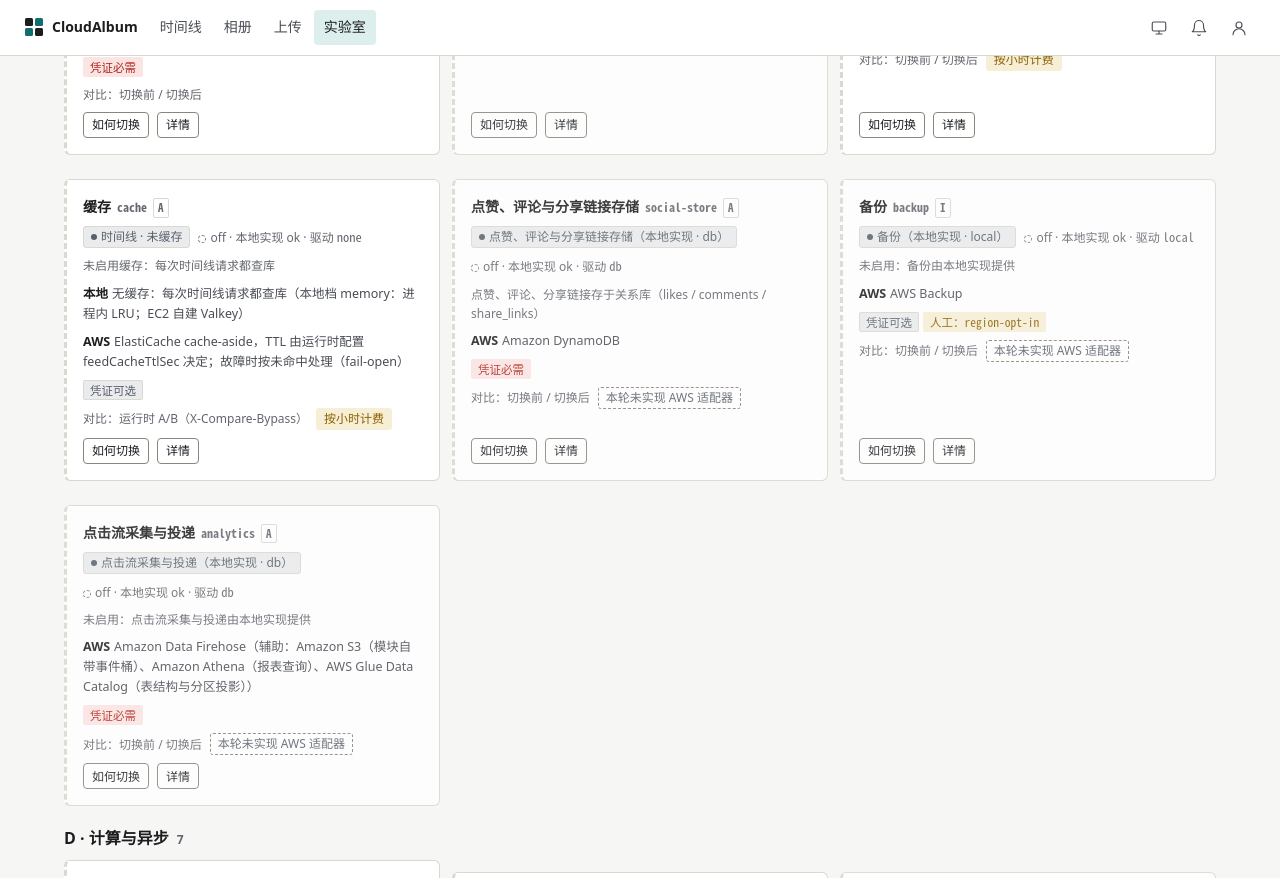
Test: /lab › “如何切换”给出 scripts/module 命令、硬依赖与计费提示
(page scrolled)
What coordinates should you click on to do the following:
click the button "如何切换" below "未启用缓存：每次时间线请求都查库"
I would click on:
 (116, 450)
Its box is [83, 438, 149, 464].
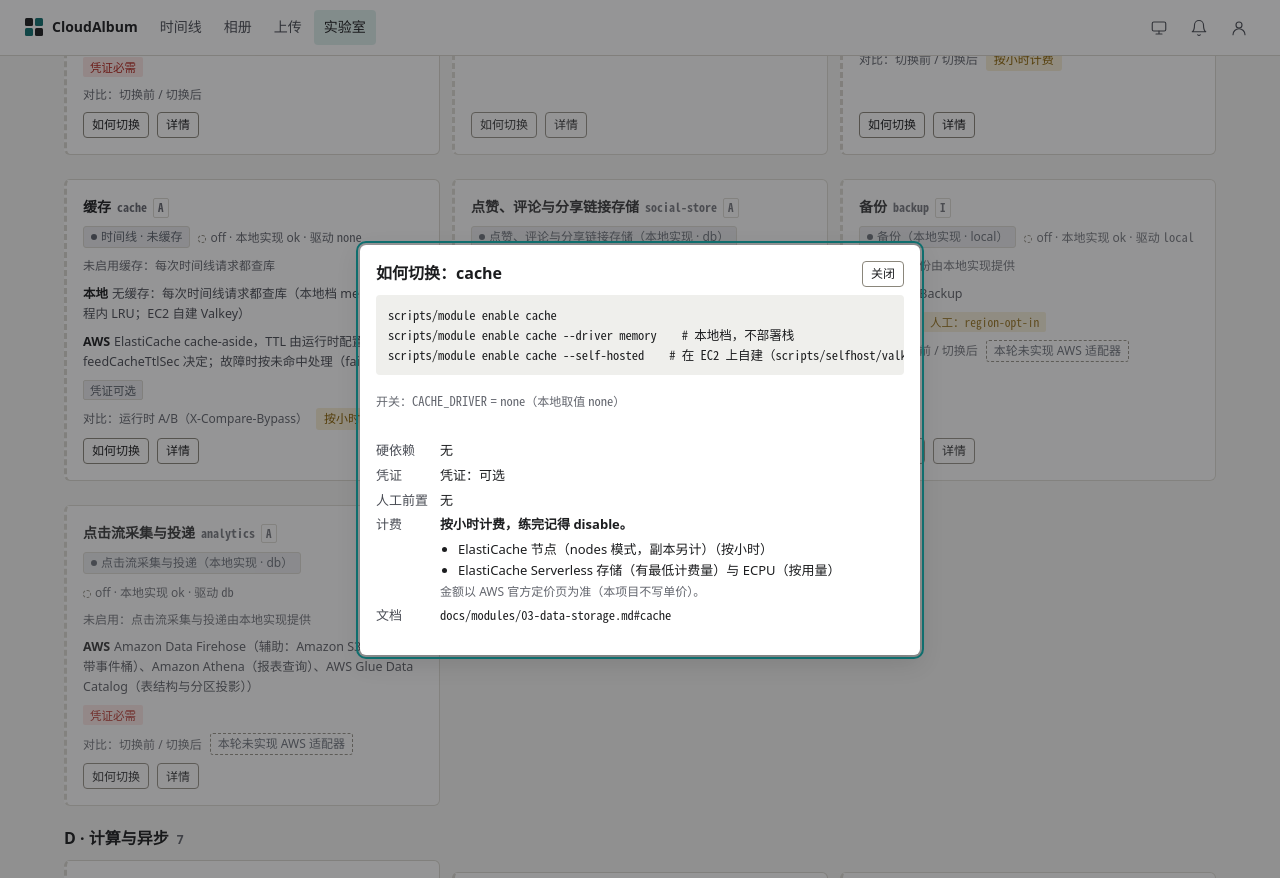
Check: the text "--driver memory" is shown, box [388, 305, 904, 364]
Check: the text "按小时计费，练完记得 disable。" is shown, box [440, 515, 633, 533]
What coordinates should you click on to do the following:
click the button "关闭"
I would click on:
 (883, 274)
Its box is [862, 261, 904, 287].
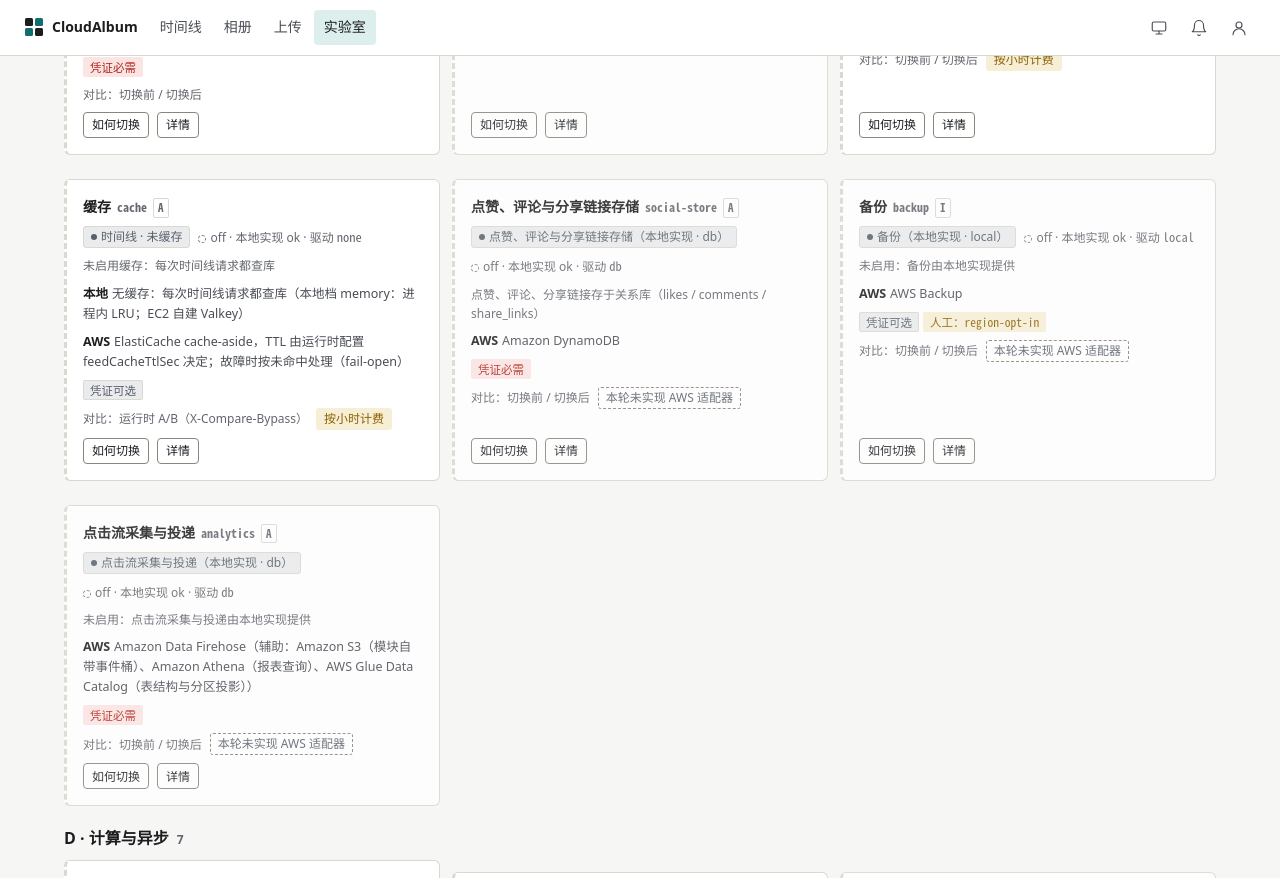
Check: the dialog is gone
